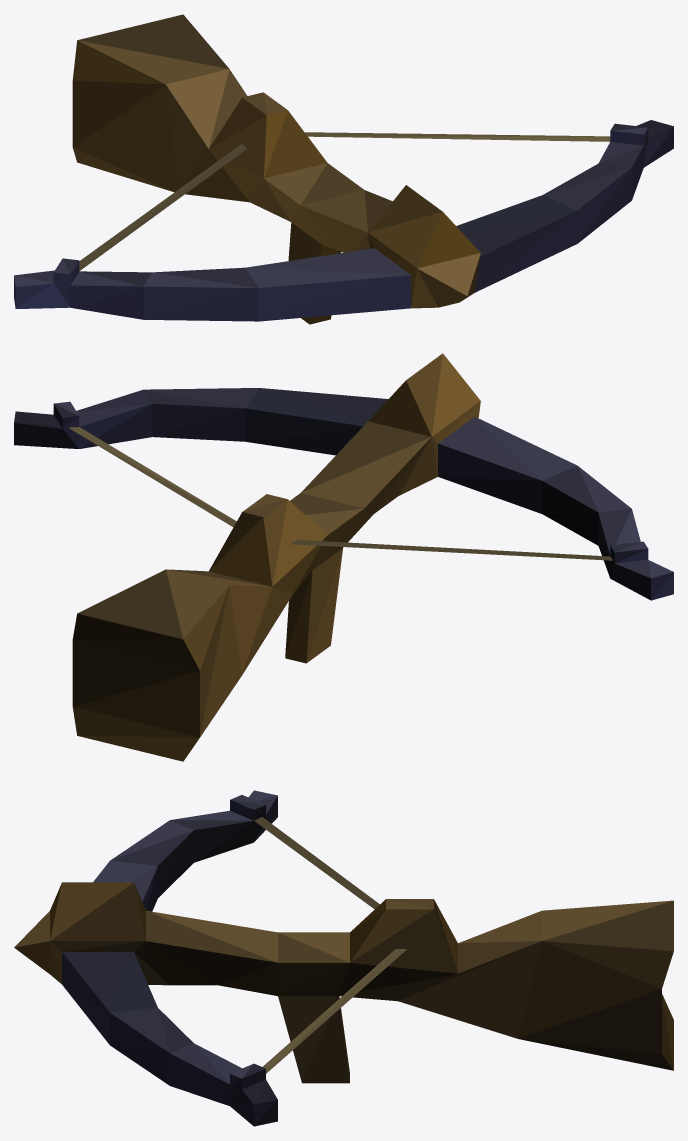
Rendered from mithril-crossbow.obj.
The picture shows the model from 3 angles, top to bottom: view 1: azimuth 30°, elevation 25°; view 2: azimuth 150°, elevation 25°; view 3: azimuth 270°, elevation 25°; orthographic projection. The views are drawn at different scales.
Visible parts, largest first — view 1: Item Mithril crossbow 2026-09-24_13-53-14; view 2: Item Mithril crossbow 2026-09-24_13-53-14; view 3: Item Mithril crossbow 2026-09-24_13-53-14.
Boxes of the visible parts, <box> form: Item Mithril crossbow 2026-09-24_13-53-14: <box>14,14,673,324</box>; Item Mithril crossbow 2026-09-24_13-53-14: <box>14,353,673,761</box>; Item Mithril crossbow 2026-09-24_13-53-14: <box>14,790,673,1126</box>.
Bounding box in the file's own units: 62 × 18 × 55.
